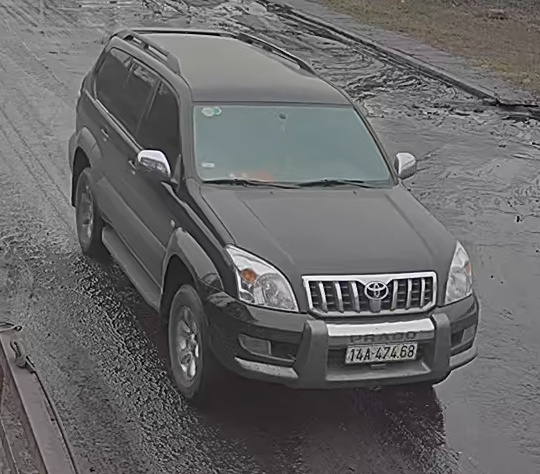vehicle plate: (341, 337, 421, 366)
